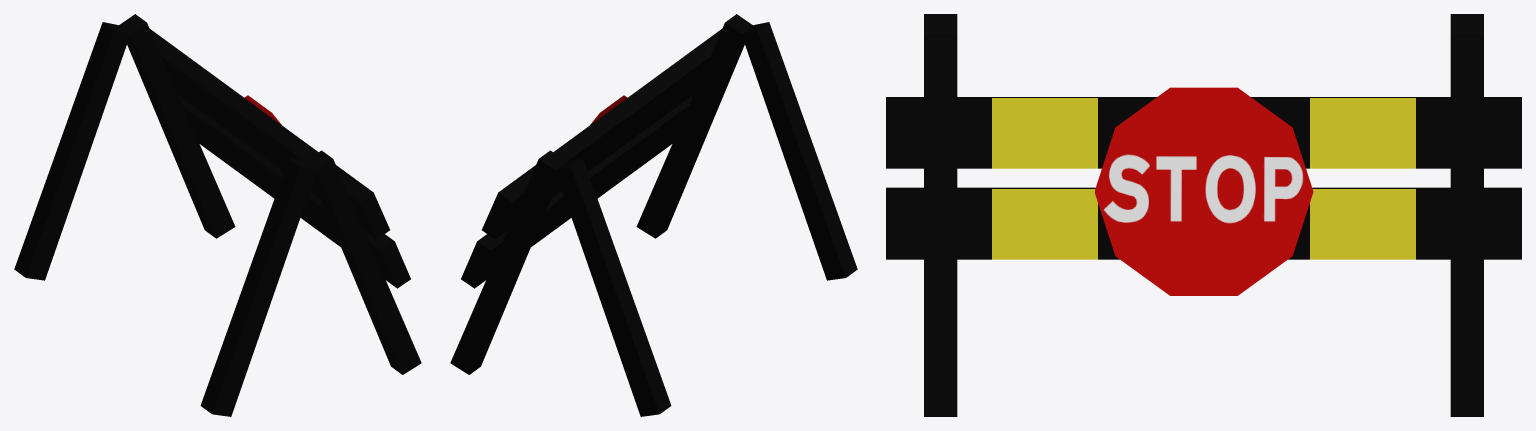
The model's file is BarrierUp.fbx.
The picture shows the model from 3 angles, left to right: view 1: azimuth 30°, elevation 25°; view 2: azimuth 150°, elevation 25°; view 3: azimuth 270°, elevation 25°; orthographic projection. The views are drawn at different scales.
Parts seen in each view (by area): view 1: Cube, Cube.001; view 2: Cube, Cube.001; view 3: Cube.001, Cylinder, Cube.
Part boxes in pixels (<box>): Cube: <box>14,14,421,416</box>; Cube.001: <box>150,29,410,288</box>; Cube: <box>450,14,857,416</box>; Cube.001: <box>461,29,721,288</box>; Cube.001: <box>886,97,1521,259</box>; Cylinder: <box>1094,87,1313,295</box>; Cube: <box>924,14,1483,416</box>.
Size of the model in its own units: 295 by 314 by 549.
